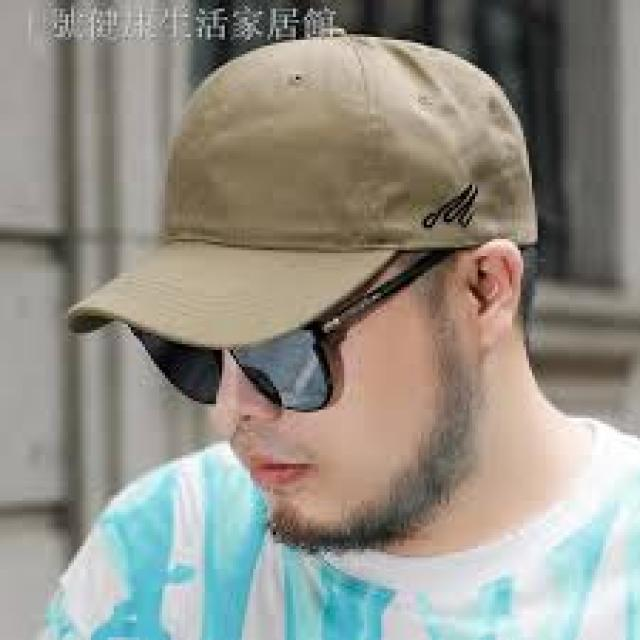cap: (58, 16, 556, 372)
